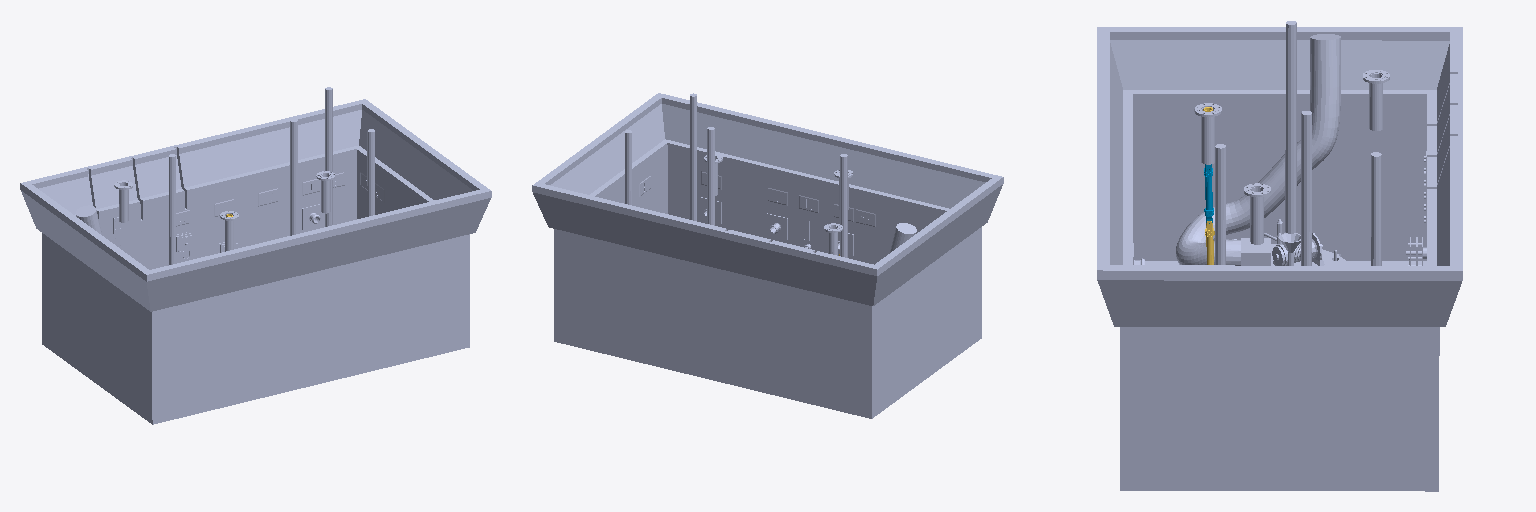
The robot description file, URDF, robot "pit_robot_assembly":
<?xml version="1.0" encoding="utf-8"?>
<robot name="pit_robot_assembly">

  <!-- ========= Shared materials ========= -->
  <material name="yellowish">
    <color rgba="1.0 0.85 0.40 1.0"/>
  </material>
  <material name="ur5_blue">
    <color rgba="0.0 0.639 0.878 1.0"/>
  </material>
  <material name="pit_transparent">
    <!-- same color you used, but alpha 0.15 -->
    <color rgba="0.79216 0.81961 0.93333 0.15"/>
  </material>

  <!-- ========= Environment: PIT (kept static) ========= -->
  <link
    name="pit_base_link">
    <inertial>
      <origin
        xyz="0.91548 0.18867 0.75538"
        rpy="0 0 0" />
      <mass
        value="10549" />
      <inertia
        ixx="10402"
        ixy="17.679"
        ixz="-164.62"
        iyy="22590"
        iyz="10.455"
        izz="28428" />
    </inertial>
    <visual>
      <origin
        xyz="0 0 0"
        rpy="3.14 0 0" />
      <geometry>
        <mesh
          filename="package://new_link_arm_full/meshes/tank_base_link.STL" />
      </geometry>
      <material name="pit_transparent"/>
    </visual>
    <collision>
      <origin
        xyz="0 0 0"
        rpy="0 0 0" />
      <geometry>
        <mesh
          filename="package://new_link_arm_full/meshes/tank_base_link.STL" />
      </geometry>
    </collision>
  </link>

  <!-- ========= Helper frame at pipe entrance ========= -->
  <link name="pipe_entry"/>
  <joint name="pit_to_entry" type="fixed">
    <parent link="pit_base_link"/>
    <child  link="pipe_entry"/>
    <!-- Tune this to put pipe_entry exactly at the pipe mouth -->
    <origin xyz="0 0 0" rpy="0 0 0"/>
  </joint>

  <!-- ========= Robot carriage: slides DOWN the pipe ========= -->
  <link name="ceiling_mount"/>

  <!-- Prismatic: robot moves (pit stays fixed). Axis -Z => increase -> down -->
  <joint name="insert_into_pipe" type="prismatic">
    <parent link="pipe_entry"/>
    <child  link="ceiling_mount"/>
    <!-- Flip robot to hang: rotate PI about X (keeps X-axis joint sign) -->
    <origin xyz="0 0 0" rpy="3.14159265359 0 0"/>
    <axis xyz="0 0 -1"/>
    <limit lower="0.0" upper="2.0" effort="1000" velocity="0.5"/>
  </joint>

  <!-- ========= robot (hanging) ========= -->
  <link name="base_link">
    <inertial>
      <origin xyz="-1.56333912816404e-05 -7.23490511796809e-14 0.248531752474478" rpy="0 0 0"/>
      <mass value="0.439458396832792"/>
      <inertia ixx="0.00243026269783921" ixy="-4.03980358205094e-13" ixz="-1.26462019025067e-16"
               iyy="0.00229501663801487" iyz="1.28625168179374e-17" izz="0.000304666843833"/>
    </inertial>
    <visual>
      <origin xyz="0 0 0" rpy="0 0 0"/>
      <geometry>
        <mesh filename="package://new_link_arm_full/meshes/base_link.STL"/>
      </geometry>
      <material name="yellowish"/>
    </visual>
    <collision>
      <origin xyz="0 0 0" rpy="0 0 0"/>
      <geometry>
        <mesh filename="package://new_link_arm_full/meshes/base_link.STL"/>
      </geometry>
    </collision>
  </link>


  <!-- Yaw DOF to rotate around the pipe axis (Z) after insertion -->
  <link name="yaw_mount"/>

  <joint name="rotate_in_pipe" type="revolute">
    <parent link="ceiling_mount"/>
    <child  link="yaw_mount"/>
    <origin xyz="0 0 0" rpy="0 0 0"/>
    <axis xyz="0 0 1"/>
    <limit lower="-3.14159265359" upper="3.14159265359" effort="50" velocity="1.5"/>
  </joint>

  <joint name="yaw_mount_to_base" type="fixed">
    <parent link="yaw_mount"/>
    <child  link="base_link"/>
    <origin xyz="0 0 0" rpy="0 0 0"/>
  </joint>


  <link name="link_1">
    <inertial>
      <origin xyz="-1.3293e-05 5.6923e-12 0.20807" rpy="0 0 0"/>
      <mass value="0.51682"/>
      <inertia ixx="0.0025795" ixy="4.1003e-13" ixz="3.0072e-15"
               iyy="0.0024287" iyz="-5.3653e-13" izz="0.00032057"/>
    </inertial>
    <visual>
      <origin xyz="0 0 0.07" rpy="0 0 0"/>
      <geometry>
        <mesh filename="package://new_link_arm_full/meshes/link_1.STL"/>
      </geometry>
      <material name="ur5_blue"/>
    </visual>
    <collision>
      <origin xyz="0 0 0.07" rpy="0 0 0"/>
      <geometry>
        <mesh filename="package://new_link_arm_full/meshes/link_1.STL"/>
      </geometry>
    </collision>
  </link>
  <joint name="joint_1" type="revolute">
    <origin xyz="0 -0.0011869 0.48" rpy="0.016254 0 0"/>
    <parent link="base_link"/>
    <child  link="link_1"/>
    <axis xyz="1 0 0"/>
    <limit lower="-1.57" upper="1.57" effort="20" velocity="20"/>
  </joint>

  <link name="link_2">
    <inertial>
      <origin xyz="-2.2427e-13 7.6046e-12 0.20814" rpy="0 0 0"/>
      <mass value="0.51663"/>
      <inertia ixx="0.0025795" ixy="4.0855e-13" ixz="4.1575e-15"
               iyy="0.0024287" iyz="-4.5089e-13" izz="0.00032057"/>
    </inertial>
    <visual>
      <origin xyz="0 0 0.07" rpy="0 0 0"/>
      <geometry>
        <mesh filename="package://new_link_arm_full/meshes/link_2.STL"/>
      </geometry>
      <material name="yellowish"/>
    </visual>
    <collision>
      <origin xyz="0 0 0.07" rpy="0 0 0"/>
      <geometry>
        <mesh filename="package://new_link_arm_full/meshes/link_2.STL"/>
      </geometry>
    </collision>
  </link>

  <joint name="joint_2" type="revolute">
    <origin xyz="0 -0.000102354980813121 0.55" rpy="0.0055098530179333 0 0"/>
    <parent link="link_1"/>
    <child  link="link_2"/>
    <axis xyz="1 0 0"/>
    <limit lower="-1.57" upper="1.57" effort="20" velocity="20"/>
  </joint>

   <link name="end_effector">
    <inertial>
      <origin xyz="0 0 0" rpy="0 0 0"/>
      <mass value="0.20"/> <!-- <<< TUNE -->
      <inertia ixx="0.0005" ixy="0" ixz="0" iyy="0.0005" iyz="0" izz="0.0005"/>
    </inertial>
    <visual>
      <origin xyz="0 0 0" rpy="0 0 0"/>   
      <geometry>
        <mesh filename="package://new_link_arm_full/meshes/end_effector.STL" scale="0.001 0.001 0.001"/>
      </geometry>
      <material name="yellowish"/>
    </visual>
    <collision>
      <origin xyz="0 0 0" rpy="0 0 0"/>
      <geometry>
        <mesh filename="package://new_link_arm_full/meshes/end_effector.STL" scale="0.001 0.001 0.001"/>
      </geometry>
    </collision>
  </link>

   <joint name="end_effector_joint" type="revolute">
    <origin xyz="0 -0.000402354980813121 0.55" rpy="0 -1.57 1.57"/>
    <parent link="link_2"/>
    <child  link="end_effector"/>
    <axis xyz="0 1 0"/>
    <limit lower="-1.57" upper="1.57" effort="20" velocity="20"/>
  </joint>

  <!-- Spinning pulley link -->
  <link name="pulley_drive">
    <inertial>
      <origin xyz="0 0 0" rpy="0 0 0"/>
      <mass value="0.30"/> <!-- <<< TUNE or replace with real inertia -->
      <inertia ixx="0.001" ixy="0" ixz="0" iyy="0.001" iyz="0" izz="0.001"/>
    </inertial>
    <visual>
      <!-- Place the pulley at the wrist face of link_2 -->
      <origin xyz="0 0 0" rpy="0 0 0"/> <!-- <<< TUNE offset -->
      <geometry>
        <mesh filename="package://new_link_arm_full/meshes/pulley.STL" scale="0.001 0.001 0.001"/>
      </geometry>
      <material name="ur5_blue"/>
    </visual>
    <collision>
      <origin xyz="0 0 0" rpy="0 0 0"/> <!-- same as visual -->
      <geometry>
        <mesh filename="package://new_link_arm_full/meshes/pulley.STL" scale="0.001 0.001 0.001"/>
      </geometry>
    </collision>
  </link>

  <joint name="joint_3_pulley_spin" type="revolute">
    <parent link="end_effector"/> <child link="pulley_drive"/>
    <origin xyz=" 0.145 0.019 0" rpy="-1.57 0 0"/>   <!-- center of pulley bore  <<< TUNE -->
    <axis xyz="0 0 1"/>                  
    <limit lower="-3.14159265359" upper="3.14159265359" effort="10" velocity="6.28"/>
    <dynamics damping="0.02" friction="0.0"/>
  </joint>

  <link name="camera_link"/>

  <joint name="camera_link_to_pulley" type="fixed">
    <parent link="pulley_drive"/> <child link="camera_link"/>
    <!-- rotate from x-forward,z-up to z-forward,x-right,y-down -->
    <origin xyz="0 0 -0.04" rpy="0 0 0"/>
  </joint>

  <!-- ZED X Mini base link -->
  <link name="zed_x_mini_base">
    <visual>
      <origin xyz="0.0125841 0.0156099 0.00667 " rpy="1.5707963 0.0000001 3.1415925"/>
      <geometry>
        <mesh filename="package://new_link_arm_full/meshes/zed_x_mini/Mesh_056.obj" scale="1. 1. 1."/>
      </geometry>
    </visual>
    <visual>
      <origin xyz="0.0125679 0.0156099 0.00667 " rpy="1.5707963 0.0000001 3.1415925"/>
      <geometry>
        <mesh filename="package://new_link_arm_full/meshes/zed_x_mini/Mesh_057.obj" scale="1. 1. 1."/>
      </geometry>
    </visual>
    <visual>
      <origin xyz="-0.0000162 0.0205866 0.01178 " rpy="0. -1.5707961 -1.5707964"/>
      <geometry>
        <mesh filename="package://new_link_arm_full/meshes/zed_x_mini/Mesh_058.obj" scale="1. 1. 1."/>
      </geometry>
    </visual>
    <visual>
      <origin xyz="0.0067838 0.0228566 0.01178 " rpy="-1.570797 0.0000002 3.1415925"/>
      <geometry>
        <mesh filename="package://new_link_arm_full/meshes/zed_x_mini/Mesh_063.obj" scale="1. 1. 1."/>
      </geometry>
    </visual>
    <visual>
      <origin xyz="-0.0068162 0.0228566 0.01178 " rpy="-1.570797 0.0000002 3.1415925"/>
      <geometry>
        <mesh filename="package://new_link_arm_full/meshes/zed_x_mini/Mesh_064.obj" scale="1. 1. 1."/>
      </geometry>
    </visual>
    <visual>
      <origin xyz="0.0125727 0.0156099 0.00667 " rpy="1.5707963 0.0000001 3.1415925"/>
      <geometry>
        <mesh filename="package://new_link_arm_full/meshes/zed_x_mini/Mesh_065.obj" scale="1. 1. 1."/>
      </geometry>
    </visual>
    <visual>
      <origin xyz="0.0302985 0.0108403 0.0035155" rpy="1.5707966 0. 0. "/>
      <geometry>
        <mesh filename="package://new_link_arm_full/meshes/zed_x_mini/Mesh_075.obj" scale="1. 1. 1."/>
      </geometry>
    </visual>
    <visual>
      <origin xyz="0.0802065 0.0108403 0.0035155" rpy="1.5707966 0. 0. "/>
      <geometry>
        <mesh filename="package://new_link_arm_full/meshes/zed_x_mini/Mesh_077.obj" scale="1. 1. 1."/>
      </geometry>
    </visual>
    <collision>
      <origin xyz="0.0125841 0.0156099 0.00667 " rpy="1.5707963 0.0000001 3.1415925"/>
      <geometry>
        <mesh filename="package://new_link_arm_full/meshes/zed_x_mini/Mesh_056.obj" scale="1. 1. 1."/>
      </geometry>
    </collision>
    <collision>
      <origin xyz="0.0125679 0.0156099 0.00667 " rpy="1.5707963 0.0000001 3.1415925"/>
      <geometry>
        <mesh filename="package://new_link_arm_full/meshes/zed_x_mini/Mesh_057.obj" scale="1. 1. 1."/>
      </geometry>
    </collision>
    <collision>
      <origin xyz="-0.0000162 0.0205866 0.01178 " rpy="0. -1.5707961 -1.5707964"/>
      <geometry>
        <mesh filename="package://new_link_arm_full/meshes/zed_x_mini/Mesh_058.obj" scale="1. 1. 1."/>
      </geometry>
    </collision>
    <collision>
      <origin xyz="0.0067838 0.0228566 0.01178 " rpy="-1.570797 0.0000002 3.1415925"/>
      <geometry>
        <mesh filename="package://new_link_arm_full/meshes/zed_x_mini/Mesh_063.obj" scale="1. 1. 1."/>
      </geometry>
    </collision>
    <collision>
      <origin xyz="-0.0068162 0.0228566 0.01178 " rpy="-1.570797 0.0000002 3.1415925"/>
      <geometry>
        <mesh filename="package://new_link_arm_full/meshes/zed_x_mini/Mesh_064.obj" scale="1. 1. 1."/>
      </geometry>
    </collision>
    <collision>
      <origin xyz="0.0125727 0.0156099 0.00667 " rpy="1.5707963 0.0000001 3.1415925"/>
      <geometry>
        <mesh filename="package://new_link_arm_full/meshes/zed_x_mini/Mesh_065.obj" scale="1. 1. 1."/>
      </geometry>
    </collision>
  </link>

  <joint name="camera_link_to_zed_x_mini" type="fixed">
    <parent link="camera_link"/>
    <child  link="zed_x_mini_base"/>
    <origin xyz="0 0 0" rpy="0 0 0"/>
  </joint>

  <link name="zed_left_camera_frame"/>
  <link name="zed_right_camera_frame"/>
  <link name="zed_imu_frame"/>

  <joint name="zed_base_to_left" type="fixed">
    <parent link="zed_x_mini_base"/>
    <child  link="zed_left_camera_frame"/>
    <origin xyz="0.025 -0.015 0.015" rpy="1.5707964 0 3.1415927"/>
  </joint>

  <joint name="zed_base_to_right" type="fixed">
    <parent link="zed_x_mini_base"/>
    <child  link="zed_right_camera_frame"/>
    <origin xyz="-0.025 -0.015 0.015" rpy="1.5707964 0 3.1415927"/>
  </joint>

  <joint name="zed_base_to_imu" type="fixed">
    <parent link="zed_x_mini_base"/>
    <child  link="zed_imu_frame"/>
    <origin xyz="0.025 -0.015 0.015" rpy="0 0 -1.5707964"/>
  </joint>

  <link name="zed_left_camera_optical_frame"/>
  <link name="zed_right_camera_optical_frame"/>

  <!-- camera_frame -> camera_optical_frame -->
  <joint name="zed_left_to_optical" type="fixed">
    <parent link="zed_left_camera_frame"/>
    <child  link="zed_left_camera_optical_frame"/>
    <origin xyz="0 0 0" rpy="-1.57079632679 0 -1.57079632679"/>
  </joint>

  <joint name="zed_right_to_optical" type="fixed">
    <parent link="zed_right_camera_frame"/>
    <child  link="zed_right_camera_optical_frame"/>
    <origin xyz="0 0 0" rpy="-1.57079632679 0 -1.57079632679"/>
  </joint>
</robot>

--- Render facts (derived) ---
3 views of the same robot in one strip: view 1: azimuth 30°, elevation 25°; view 2: azimuth 150°, elevation 25°; view 3: azimuth 270°, elevation 25° (orthographic).
Model pit_robot_assembly with 16 links and 15 joints (5 revolute, 1 prismatic, 9 fixed), rooted at pit_base_link, posed every joint at zero.
Visible links, largest first — view 1: pit_base_link; view 2: pit_base_link; view 3: pit_base_link.
Link boxes in pixels (x1=…): pit_base_link: x1=20, y1=87, x2=491, y2=424; pit_base_link: x1=532, y1=93, x2=1003, y2=418; pit_base_link: x1=1097, y1=21, x2=1462, y2=491.
Size in the robot's own frame: 4.78 by 3.02 by 2.74 metres.
14 mesh visuals loaded from 14 distinct referenced files (6 binary STL, 8 OBJ).